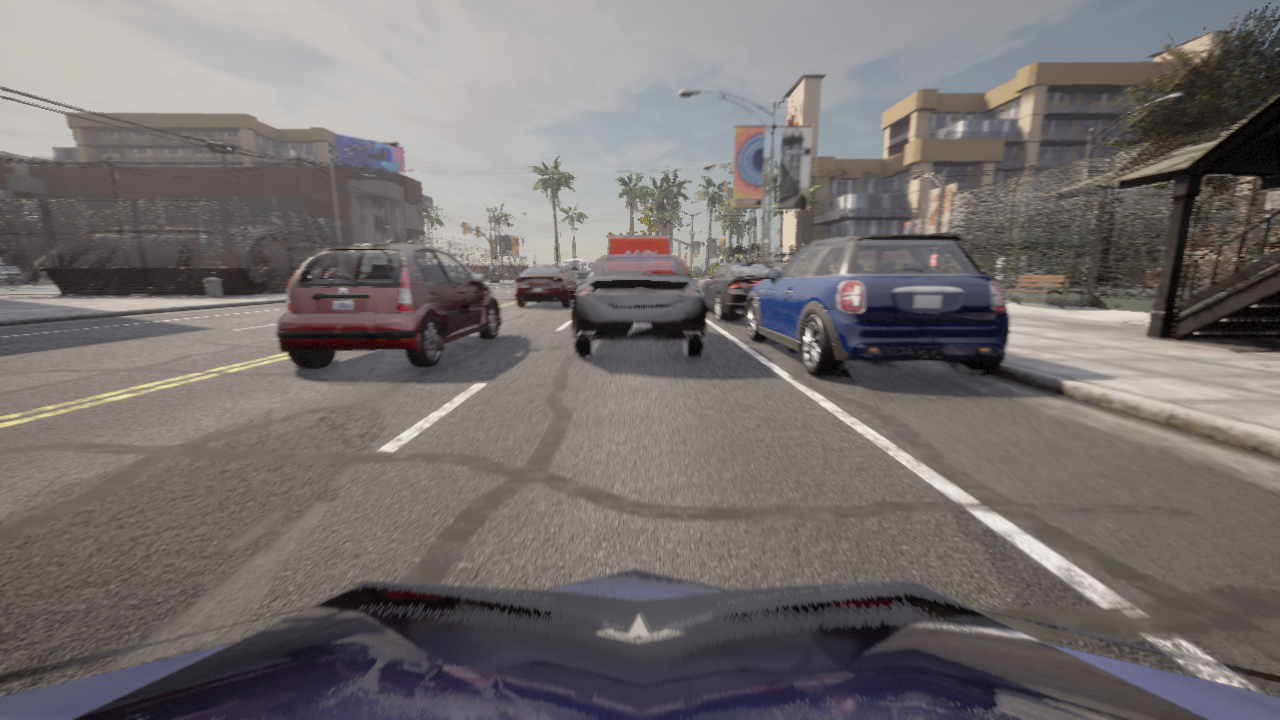cyclist: (0, 569, 1279, 719), (746, 224, 1008, 375), (277, 245, 500, 367), (572, 254, 706, 358), (702, 261, 780, 321), (515, 265, 578, 306), (608, 237, 669, 255), (562, 259, 593, 287)
pedestrian: (1089, 262, 1092, 271)
